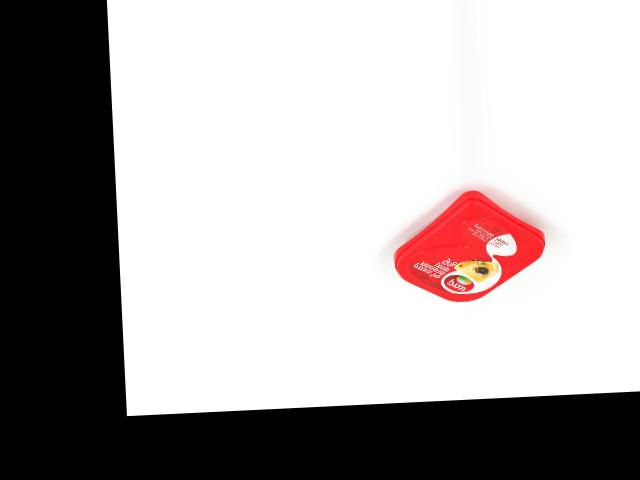cheese: (390, 186, 548, 305)
